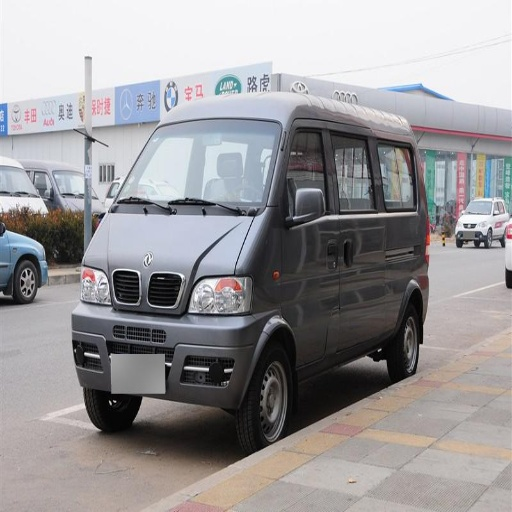front_bumper: (75, 268, 264, 409)
front_glass: (112, 119, 280, 215)
front_left_door: (279, 122, 357, 364)
trunk: (395, 226, 429, 295)
